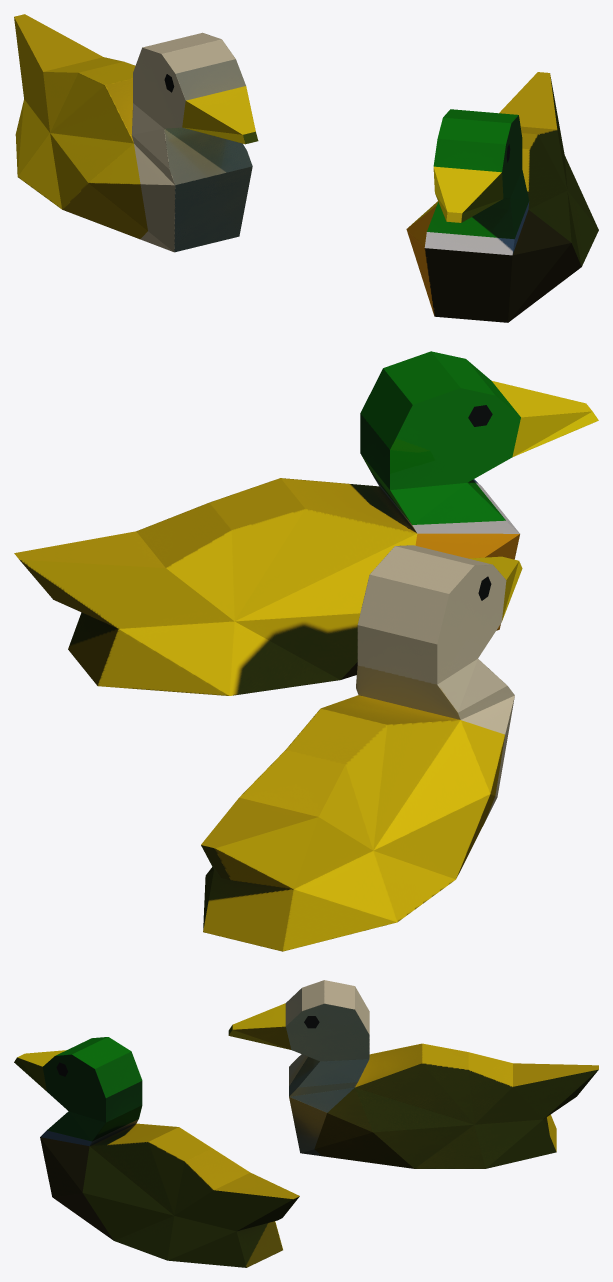
The model's file is kacky.obj.
3 views of the same model, one above another, from view 1: azimuth 30°, elevation 25°; view 2: azimuth 150°, elevation 25°; view 3: azimuth 270°, elevation 25° (orthographic). The views are drawn at different scales.
Visible parts, largest first — view 1: Mesh2 G_3DGeom_1 Assembly_1 SimLab_skp Assembly_2 Model, Mesh19 G_3DGeom_8 Assembly_1 SimLab_skp Assembly_2 Model, Mesh3 G_3DGeom_2 Assembly_1 SimLab_skp Assembly_2 Model, Mesh4 G_3DGeom_3 Assembly_1 SimLab_skp Assembly_2 Model, Mesh1 G_3DGeom_1 Assembly_1 SimLab_skp Assembly_2 Model, Mesh7 G_3DGeom_5 Assembly_1 SimLab_skp Assembly_2 Model, Mesh6 G_3DGeom_5 Assembly_1 SimLab_skp Assembly_2 Model, Mesh5 G_3DGeom_4 Assembly_1 SimLab_skp Assembly_2 Model; view 2: Mesh1 G_3DGeom_1 Assembly_1 SimLab_skp Assembly_2 Model, Mesh2 G_3DGeom_1 Assembly_1 SimLab_skp Assembly_2 Model, Mesh19 G_3DGeom_8 Assembly_1 SimLab_skp Assembly_2 Model, Mesh4 G_3DGeom_3 Assembly_1 SimLab_skp Assembly_2 Model, Mesh6 G_3DGeom_5 Assembly_1 SimLab_skp Assembly_2 Model, Mesh3 G_3DGeom_2 Assembly_1 SimLab_skp Assembly_2 Model, Mesh5 G_3DGeom_4 Assembly_1 SimLab_skp Assembly_2 Model, Mesh7 G_3DGeom_5 Assembly_1 SimLab_skp Assembly_2 Model; view 3: Mesh2 G_3DGeom_1 Assembly_1 SimLab_skp Assembly_2 Model, Mesh1 G_3DGeom_1 Assembly_1 SimLab_skp Assembly_2 Model, Mesh19 G_3DGeom_8 Assembly_1 SimLab_skp Assembly_2 Model, Mesh4 G_3DGeom_3 Assembly_1 SimLab_skp Assembly_2 Model, Mesh3 G_3DGeom_2 Assembly_1 SimLab_skp Assembly_2 Model, Mesh7 G_3DGeom_5 Assembly_1 SimLab_skp Assembly_2 Model, Mesh6 G_3DGeom_5 Assembly_1 SimLab_skp Assembly_2 Model.
Boxes of the visible parts, <box> form: Mesh2 G_3DGeom_1 Assembly_1 SimLab_skp Assembly_2 Model: <box>14,14,147,239</box>; Mesh19 G_3DGeom_8 Assembly_1 SimLab_skp Assembly_2 Model: <box>131,32,252,252</box>; Mesh3 G_3DGeom_2 Assembly_1 SimLab_skp Assembly_2 Model: <box>406,205,581,322</box>; Mesh4 G_3DGeom_3 Assembly_1 SimLab_skp Assembly_2 Model: <box>427,109,529,239</box>; Mesh1 G_3DGeom_1 Assembly_1 SimLab_skp Assembly_2 Model: <box>408,72,598,266</box>; Mesh7 G_3DGeom_5 Assembly_1 SimLab_skp Assembly_2 Model: <box>182,86,258,144</box>; Mesh6 G_3DGeom_5 Assembly_1 SimLab_skp Assembly_2 Model: <box>433,166,503,222</box>; Mesh5 G_3DGeom_4 Assembly_1 SimLab_skp Assembly_2 Model: <box>424,201,529,255</box>; Mesh1 G_3DGeom_1 Assembly_1 SimLab_skp Assembly_2 Model: <box>14,478,417,695</box>; Mesh2 G_3DGeom_1 Assembly_1 SimLab_skp Assembly_2 Model: <box>201,695,504,951</box>; Mesh19 G_3DGeom_8 Assembly_1 SimLab_skp Assembly_2 Model: <box>356,545,514,821</box>; Mesh4 G_3DGeom_3 Assembly_1 SimLab_skp Assembly_2 Model: <box>360,351,520,524</box>; Mesh6 G_3DGeom_5 Assembly_1 SimLab_skp Assembly_2 Model: <box>492,381,598,457</box>; Mesh3 G_3DGeom_2 Assembly_1 SimLab_skp Assembly_2 Model: <box>341,533,519,679</box>; Mesh5 G_3DGeom_4 Assembly_1 SimLab_skp Assembly_2 Model: <box>412,479,519,533</box>; Mesh7 G_3DGeom_5 Assembly_1 SimLab_skp Assembly_2 Model: <box>468,556,522,620</box>; Mesh2 G_3DGeom_1 Assembly_1 SimLab_skp Assembly_2 Model: <box>314,1043,598,1168</box>; Mesh1 G_3DGeom_1 Assembly_1 SimLab_skp Assembly_2 Model: <box>82,1123,299,1267</box>; Mesh19 G_3DGeom_8 Assembly_1 SimLab_skp Assembly_2 Model: <box>285,980,369,1156</box>; Mesh4 G_3DGeom_3 Assembly_1 SimLab_skp Assembly_2 Model: <box>43,1037,142,1141</box>; Mesh3 G_3DGeom_2 Assembly_1 SimLab_skp Assembly_2 Model: <box>40,1137,113,1240</box>; Mesh7 G_3DGeom_5 Assembly_1 SimLab_skp Assembly_2 Model: <box>228,1003,291,1049</box>; Mesh6 G_3DGeom_5 Assembly_1 SimLab_skp Assembly_2 Model: <box>14,1050,66,1091</box>.
Size of the model in its own units: 0.4828 by 0.2091 by 0.7452.
8 materials, 8 textured.
